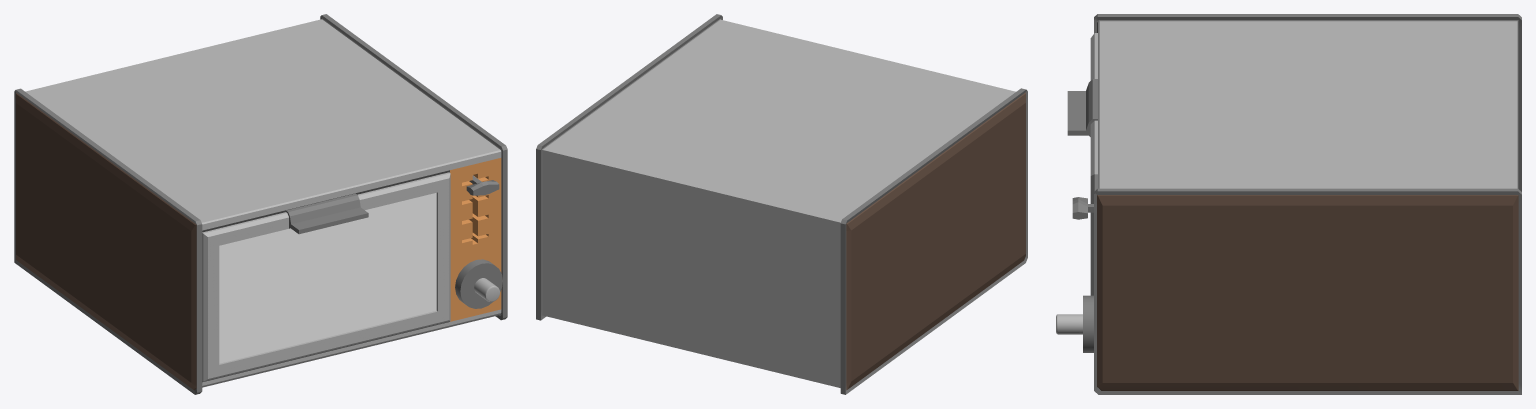
Rendered from toaster 2.fbx.
3 views of the same model, side by side, from view 1: azimuth 30°, elevation 25°; view 2: azimuth 150°, elevation 25°; view 3: azimuth 270°, elevation 25° (orthographic). The views are drawn at different scales.
Parts seen in each view (by area): view 1: polySurface8; view 2: polySurface8; view 3: polySurface8.
Boxes of the visible parts, box(x1,y1,x2,y2) form: polySurface8: box(14, 14, 507, 394); polySurface8: box(536, 14, 1027, 394); polySurface8: box(1056, 14, 1521, 394).
Bounding box in the file's own units: 2.03 × 1.07 × 2.22.
